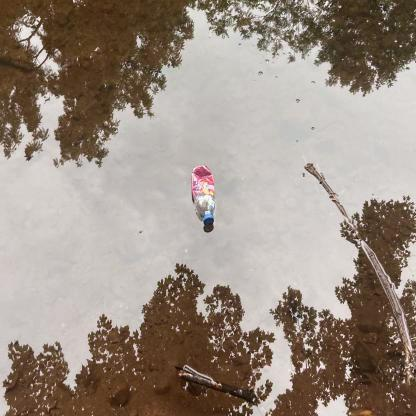Plastic: (186, 158, 219, 232)
